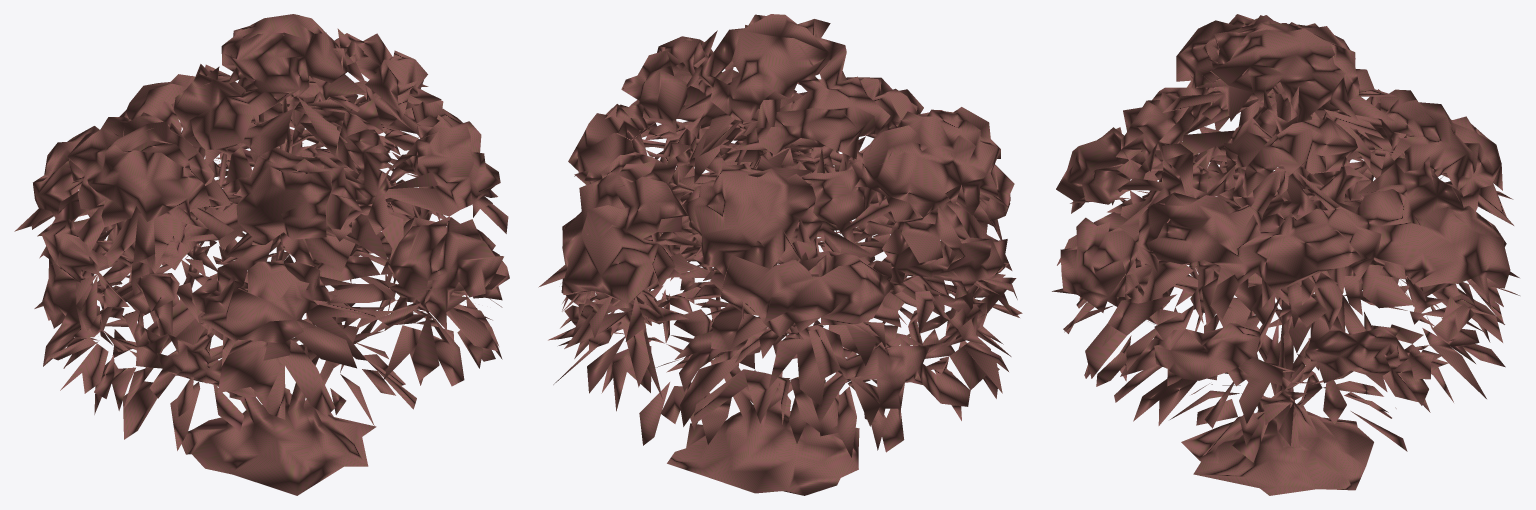
File: hlg-rhododendron.glb
3 views of the same model, side by side, from view 1: azimuth 30°, elevation 25°; view 2: azimuth 150°, elevation 25°; view 3: azimuth 270°, elevation 25° (orthographic).
Parts seen in each view (by area): view 1: geometry_0; view 2: geometry_0; view 3: geometry_0.
Part boxes in pixels (x1,y1,x2,y2): geometry_0: (14,14,509,495); geometry_0: (538,14,1022,495); geometry_0: (1052,14,1519,495).
Bounding box in the file's own units: 49360 × 48968 × 48086.
Materials: 1 (1 with a texture image).
